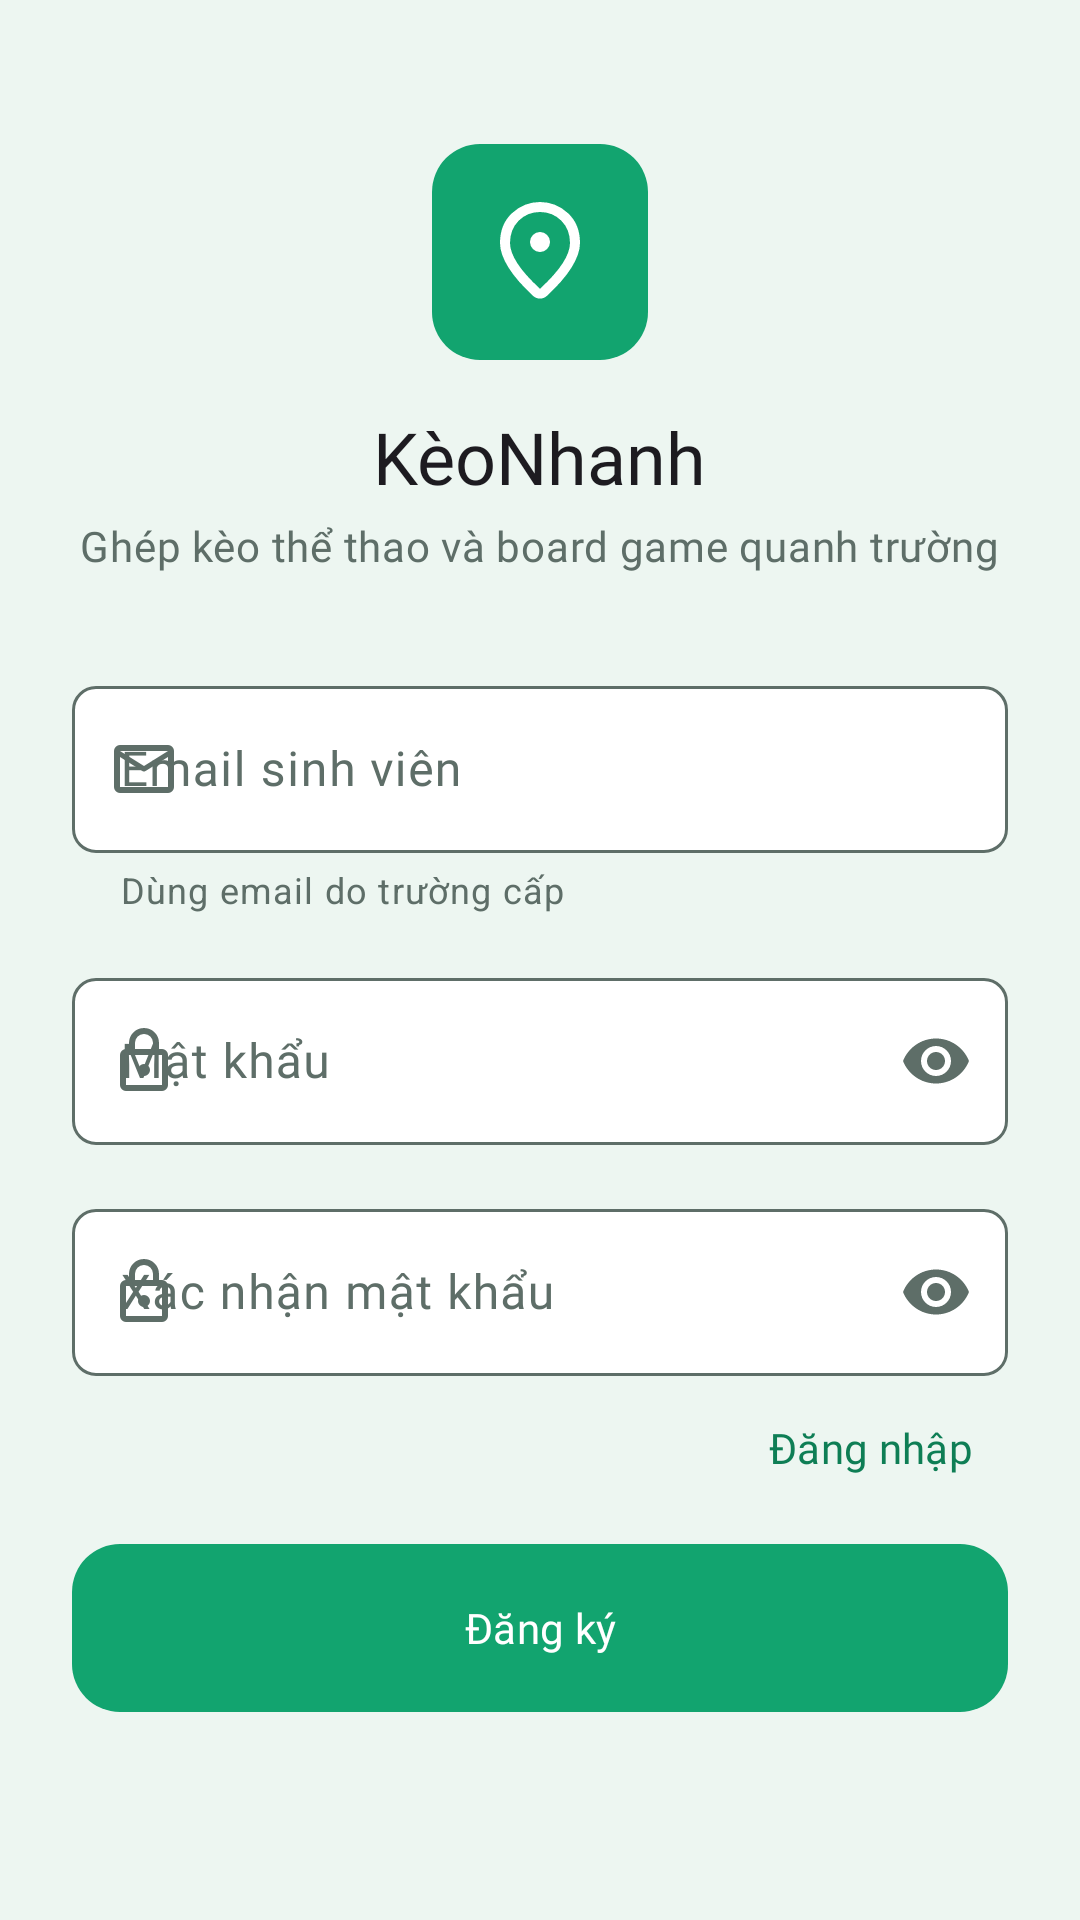

Screen size 1080 × 1920. Icon name, then its center in pixels as (x,y):
location on: (540,252)
